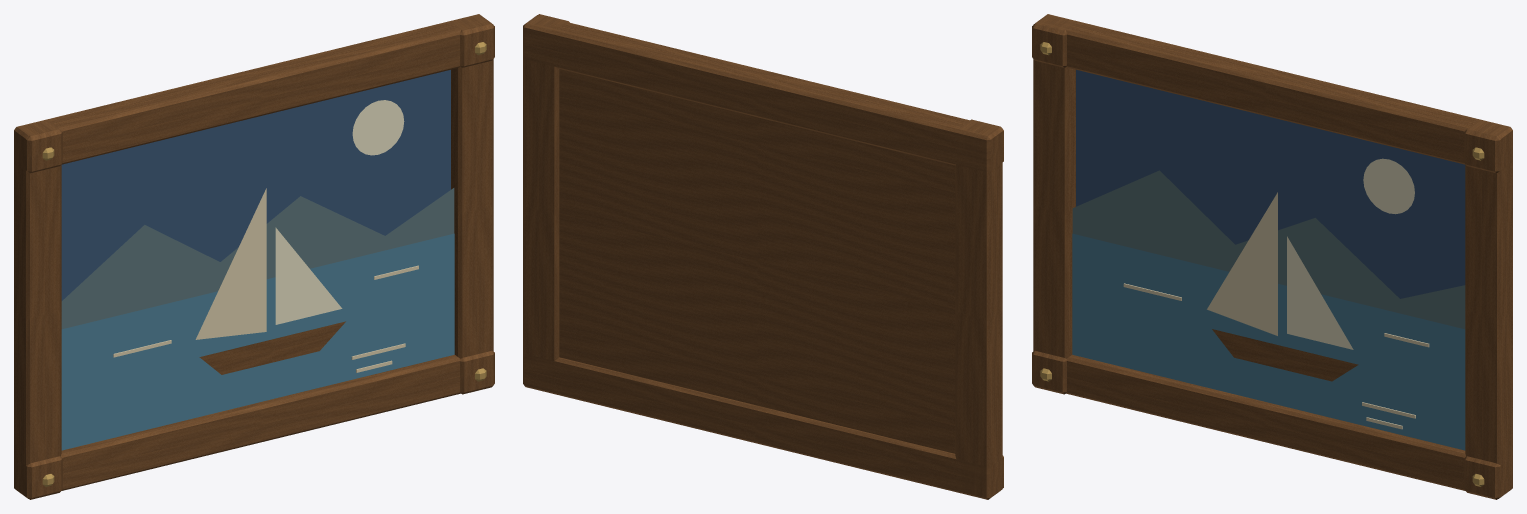
The model's file is royal-bedroom-painting.glb.
3 renders of one model, left to right at view 1: azimuth 30°, elevation 25°; view 2: azimuth 150°, elevation 25°; view 3: azimuth 330°, elevation 25°, orthographic.
Parts seen in each view (by area): view 1: Moonlit lake canvas, Still lake, Oak frame crossbar.001, Low mountain silhouettes, Oak frame crossbar, Oak frame upright, Oak frame upright.001, Large ivory sail, Small ivory sail, Golden sailboat hull, Moon disc, Frame corner block.001 (+3 smaller); view 2: Inset oak canvas support, Oak frame crossbar.001, Oak frame crossbar, Oak frame upright, Oak frame upright.001, Frame corner block.001; view 3: Moonlit lake canvas, Still lake, Oak frame crossbar.001, Low mountain silhouettes, Oak frame crossbar, Oak frame upright.001, Oak frame upright, Large ivory sail, Small ivory sail, Golden sailboat hull, Moon disc, Frame corner block.003 (+3 smaller).
Part boxes in pixels (bbox=[...]): Moonlit lake canvas: bbox=[61, 70, 450, 300]; Still lake: bbox=[61, 233, 454, 450]; Oak frame crossbar.001: bbox=[14, 14, 493, 164]; Low mountain silhouettes: bbox=[61, 188, 454, 329]; Oak frame crossbar: bbox=[61, 354, 460, 490]; Oak frame upright: bbox=[14, 130, 61, 498]; Oak frame upright.001: bbox=[451, 23, 493, 358]; Large ivory sail: bbox=[195, 188, 266, 339]; Small ivory sail: bbox=[275, 227, 342, 324]; Golden sailboat hull: bbox=[199, 321, 345, 374]; Moon disc: bbox=[352, 100, 404, 155]; Frame corner block.001: bbox=[14, 120, 62, 173]; Inset oak canvas support: bbox=[559, 69, 955, 453]; Oak frame crossbar.001: bbox=[523, 15, 1002, 171]; Oak frame crossbar: bbox=[524, 354, 992, 499]; Oak frame upright: bbox=[955, 128, 1002, 499]; Oak frame upright.001: bbox=[523, 26, 559, 394]; Frame corner block.001: bbox=[959, 119, 1003, 169]; Moonlit lake canvas: bbox=[1076, 70, 1465, 298]; Still lake: bbox=[1072, 233, 1465, 450]; Oak frame crossbar.001: bbox=[1033, 14, 1512, 169]; Low mountain silhouettes: bbox=[1072, 170, 1465, 329]; Oak frame crossbar: bbox=[1066, 354, 1465, 490]; Oak frame upright.001: bbox=[1465, 127, 1512, 498]; Oak frame upright: bbox=[1033, 59, 1075, 358]; Large ivory sail: bbox=[1207, 192, 1277, 335]; Small ivory sail: bbox=[1287, 236, 1353, 349]; Golden sailboat hull: bbox=[1212, 329, 1358, 381]; Moon disc: bbox=[1363, 158, 1414, 214]; Frame corner block.003: bbox=[1464, 120, 1512, 173].
Size of the model in its own units: 1.05 by 0.78 by 0.078.
9 materials, 3 textured.
